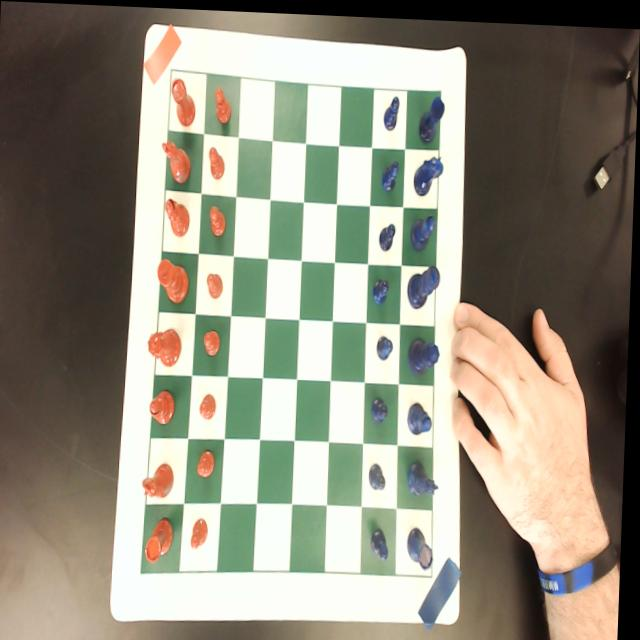B: (411, 209, 436, 248), (409, 398, 434, 431)
K: (408, 260, 441, 306)
N: (413, 148, 445, 193), (409, 456, 442, 493)
P: (381, 155, 400, 190), (373, 522, 392, 557), (383, 91, 400, 127), (370, 457, 389, 488), (379, 218, 397, 248), (372, 392, 391, 420), (378, 330, 395, 357), (374, 273, 390, 301)
Q: (409, 330, 442, 373)
R: (418, 90, 445, 139), (410, 521, 439, 564)
b: (164, 195, 192, 236), (151, 386, 178, 425)
cb: (144, 67, 441, 571)
k: (157, 255, 191, 302)
n: (161, 136, 192, 183), (144, 459, 177, 500)
p: (214, 83, 233, 122), (208, 142, 227, 177), (193, 513, 212, 548), (208, 201, 227, 235), (198, 445, 217, 477), (204, 324, 222, 353), (201, 390, 219, 419), (208, 269, 224, 297)
q: (149, 325, 184, 366)
r: (147, 514, 177, 563), (170, 74, 197, 123)
